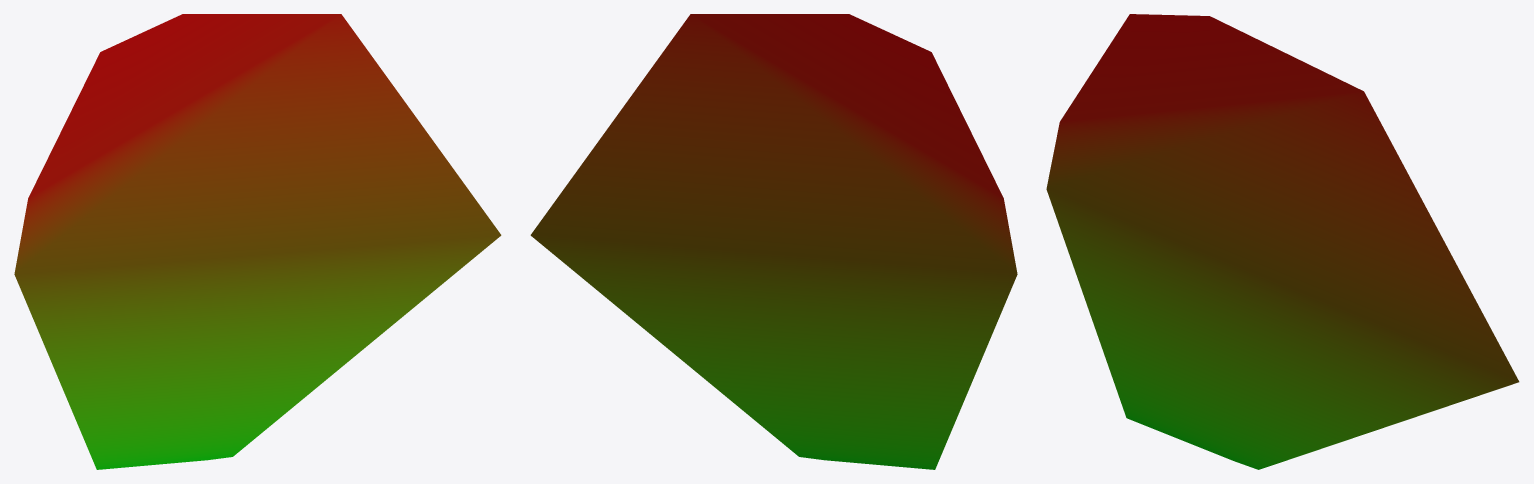
The model's file is Var3_LOD6.fbx.
The picture shows the model from 3 angles, left to right: view 1: azimuth 30°, elevation 25°; view 2: azimuth 150°, elevation 25°; view 3: azimuth 330°, elevation 25°; orthographic projection. The views are drawn at different scales.
Parts seen in each view (by area): view 1: _gims_Var3_LOD6; view 2: _gims_Var3_LOD6; view 3: _gims_Var3_LOD6.
Part boxes in pixels (x1,y1,x2,y2): _gims_Var3_LOD6: (14, 14, 501, 469); _gims_Var3_LOD6: (530, 14, 1017, 469); _gims_Var3_LOD6: (1046, 14, 1519, 469).
Bounding box in the file's own units: 107 × 95.12 × 7.18e-06.
